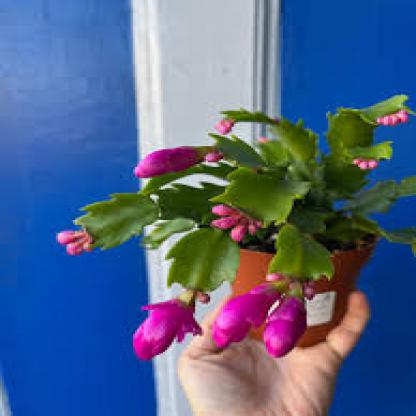Aglonema: (2, 29, 416, 237)
